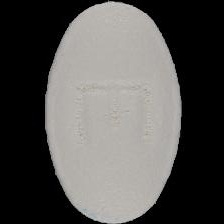54868-6164: (0, 0, 224, 224)
